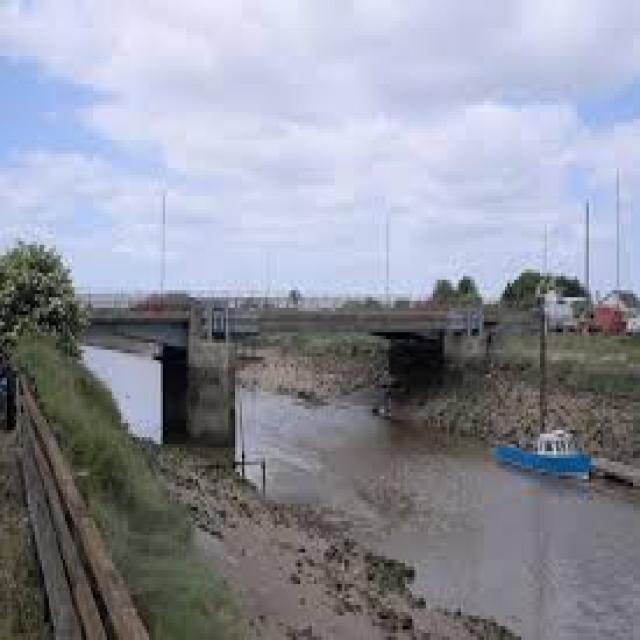Bridges: (56, 200, 562, 511)
